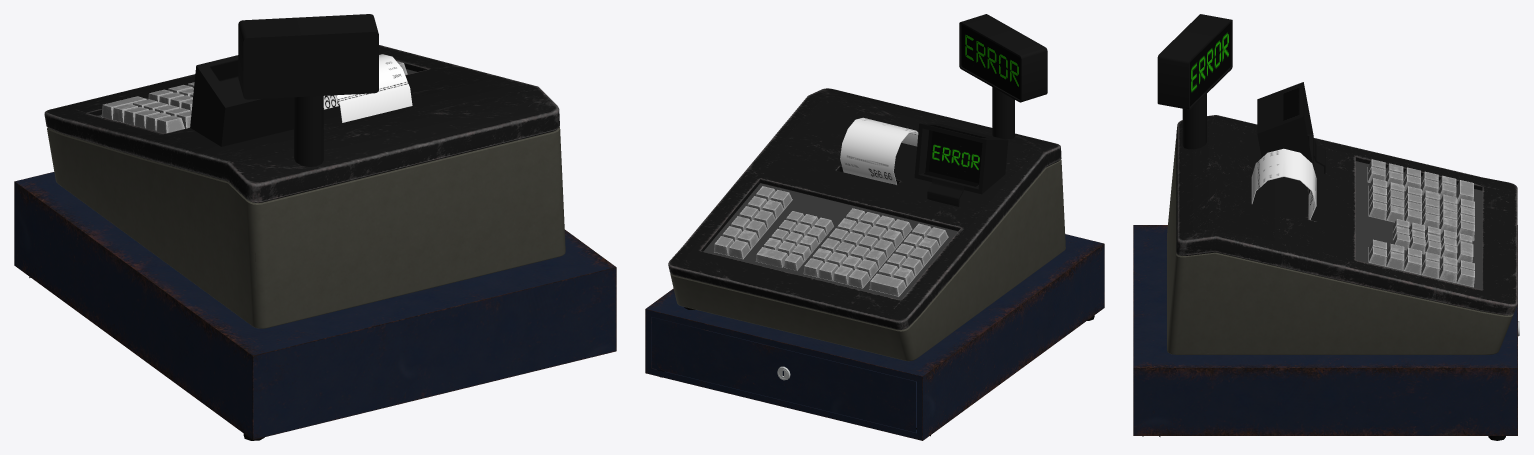
Rendered from low_poly_cash_register.glb.
3 renders of one model, left to right at view 1: azimuth 30°, elevation 25°; view 2: azimuth 150°, elevation 25°; view 3: azimuth 270°, elevation 25°, orthographic. The views are drawn at different scales.
Parts seen in each view (by area): view 1: Cube.001_7, Cube_6, Cylinder.001_1, Screen_0, Square Button.001_5, Cylinder.011_4; view 2: Cube.001_7, Cube_6, Square Button.001_5, Cylinder.001_1, Screen_0, Cube.004_8, Cylinder.011_4; view 3: Cube.001_7, Cube_6, Square Button.001_5, Cylinder.001_1, Screen_0, Cube.004_8, Cylinder.011_4.
Boxes of the visible parts, bbox=[...] form: Cube.001_7: bbox=[44, 45, 565, 328]; Cube_6: bbox=[14, 172, 616, 439]; Cylinder.001_1: bbox=[238, 14, 378, 166]; Screen_0: bbox=[190, 55, 293, 146]; Square Button.001_5: bbox=[101, 61, 407, 133]; Cylinder.011_4: bbox=[323, 54, 412, 122]; Cube.001_7: bbox=[668, 88, 1065, 361]; Cube_6: bbox=[645, 234, 1104, 440]; Square Button.001_5: bbox=[713, 186, 948, 296]; Cylinder.001_1: bbox=[959, 14, 1047, 139]; Screen_0: bbox=[914, 123, 1008, 206]; Cube.004_8: bbox=[703, 183, 957, 299]; Cylinder.011_4: bbox=[840, 117, 918, 185]; Cube.001_7: bbox=[1167, 115, 1517, 354]; Cube_6: bbox=[1133, 225, 1517, 435]; Square Button.001_5: bbox=[1367, 159, 1474, 287]; Cylinder.001_1: bbox=[1157, 14, 1232, 149]; Screen_0: bbox=[1257, 82, 1325, 174]; Cube.004_8: bbox=[1355, 161, 1482, 289]; Cylinder.011_4: bbox=[1251, 148, 1316, 219].
Bounding box in the file's own units: 1.91 × 1.86 × 2.18.
Materials: 9 (9 with a texture image).
